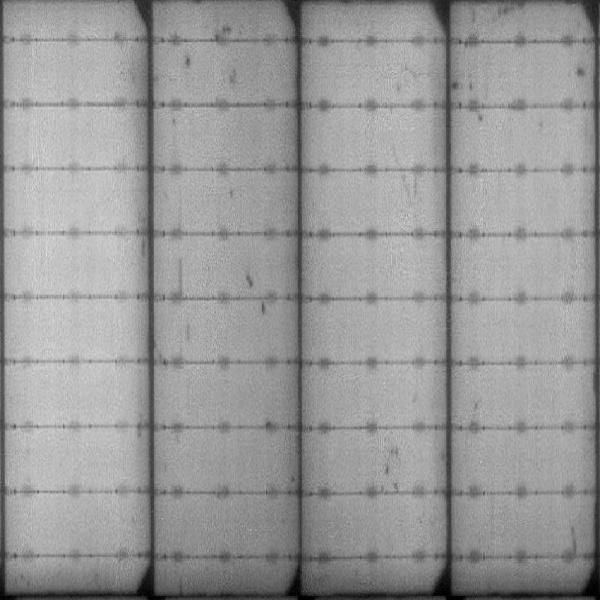scratch: (471, 1, 525, 21), (388, 177, 425, 205), (382, 445, 404, 490), (175, 253, 185, 301)
